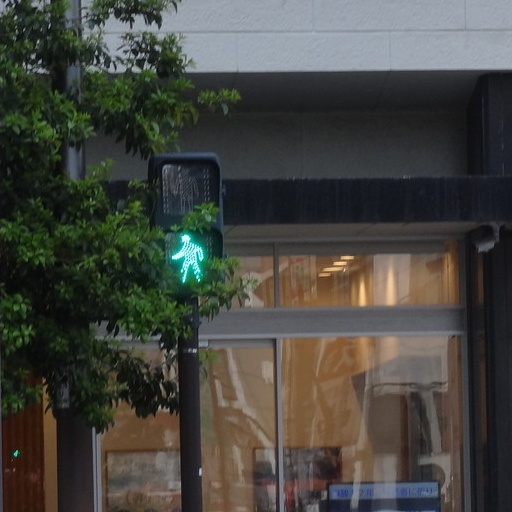Pedestrian_Signal_Blue: (155, 153, 226, 287)
